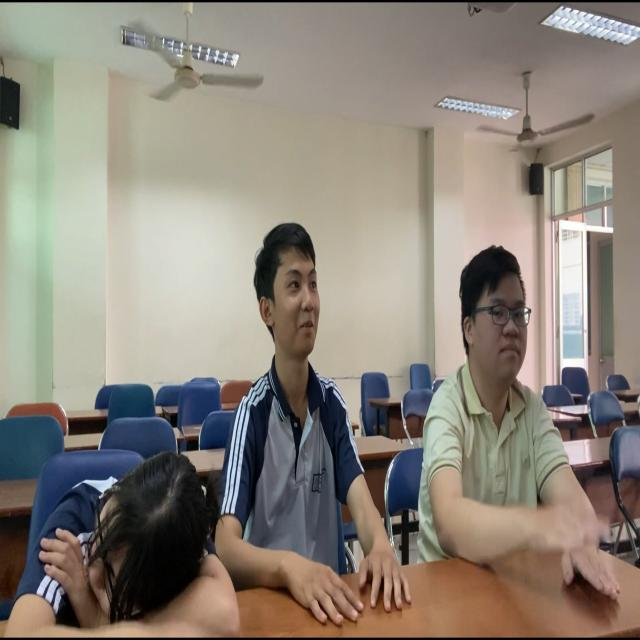sleep: (1, 447, 231, 640)
